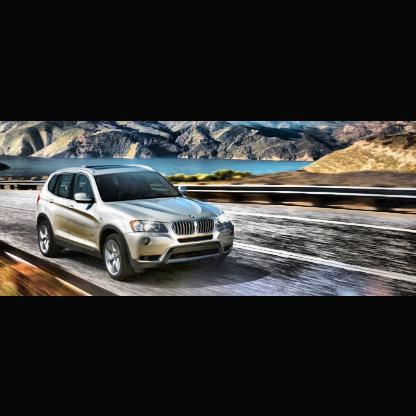BMW X3 SUV 2012: (37, 162, 239, 280)
